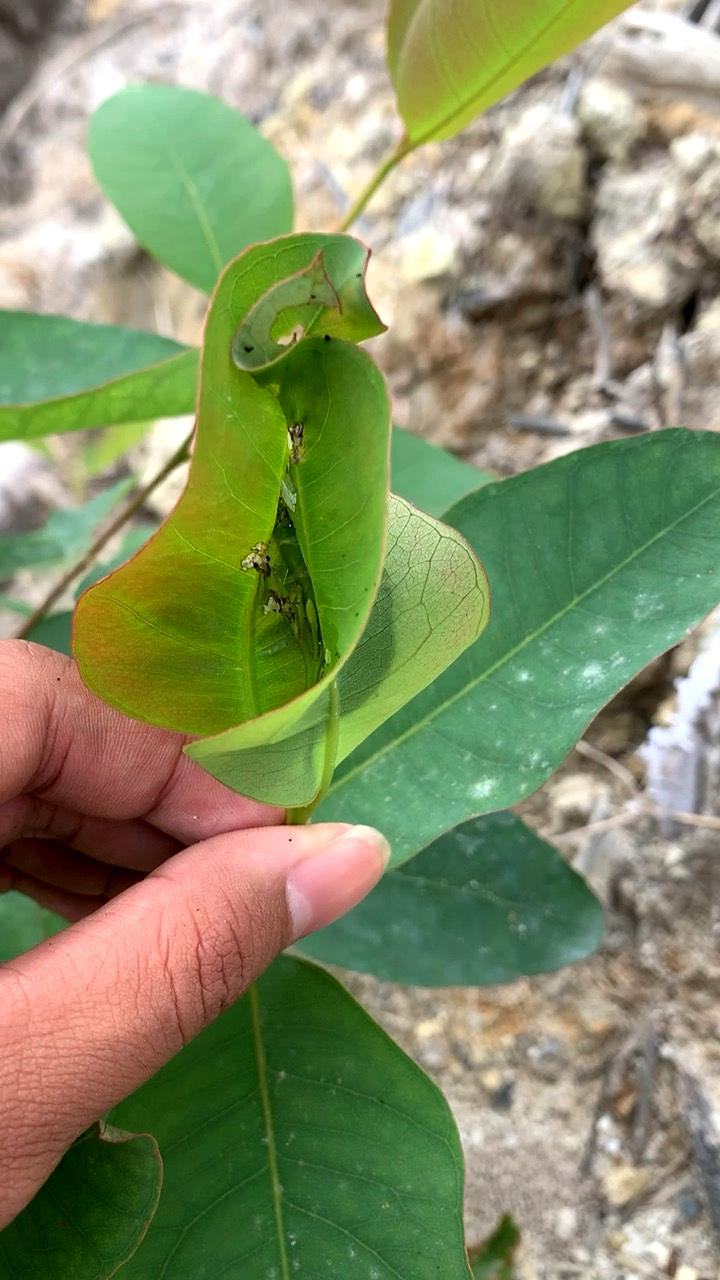Leaf Roller - Leaf: (57, 218, 516, 848)
